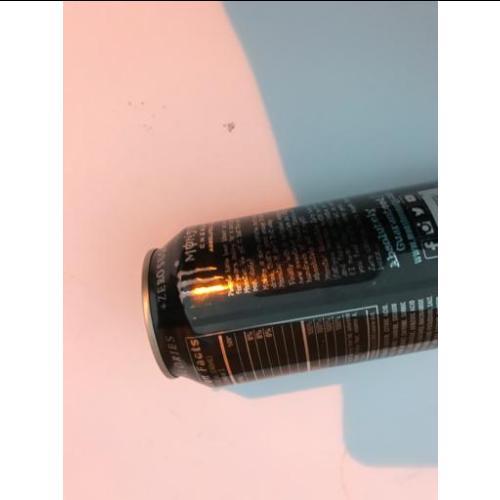metal: (140, 181, 440, 391)
